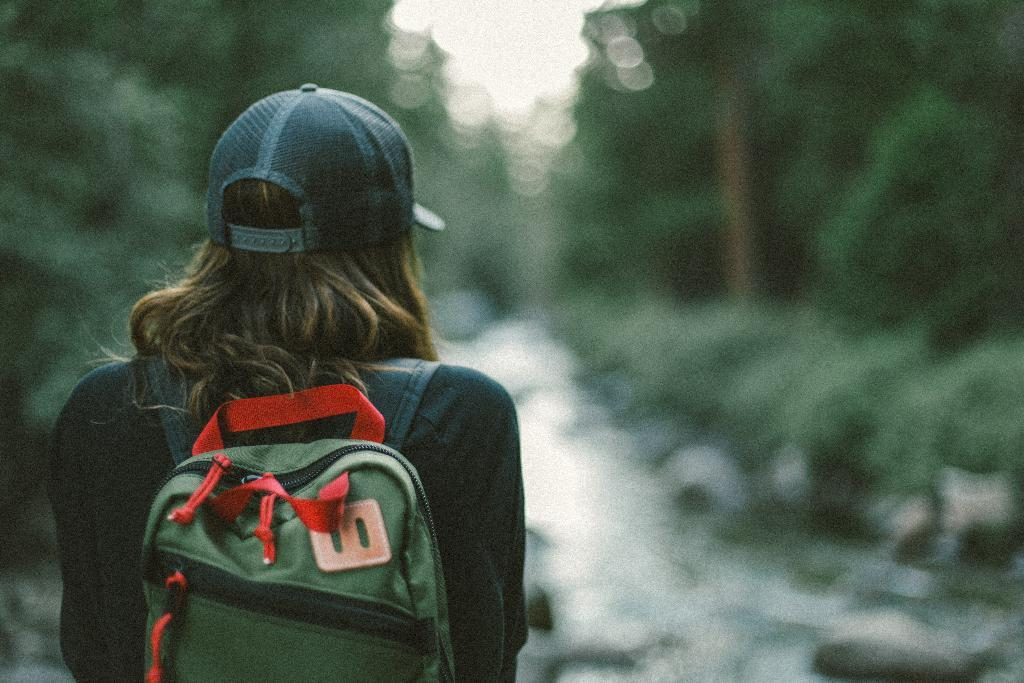Luggage-and-bags: (134, 350, 452, 682)
